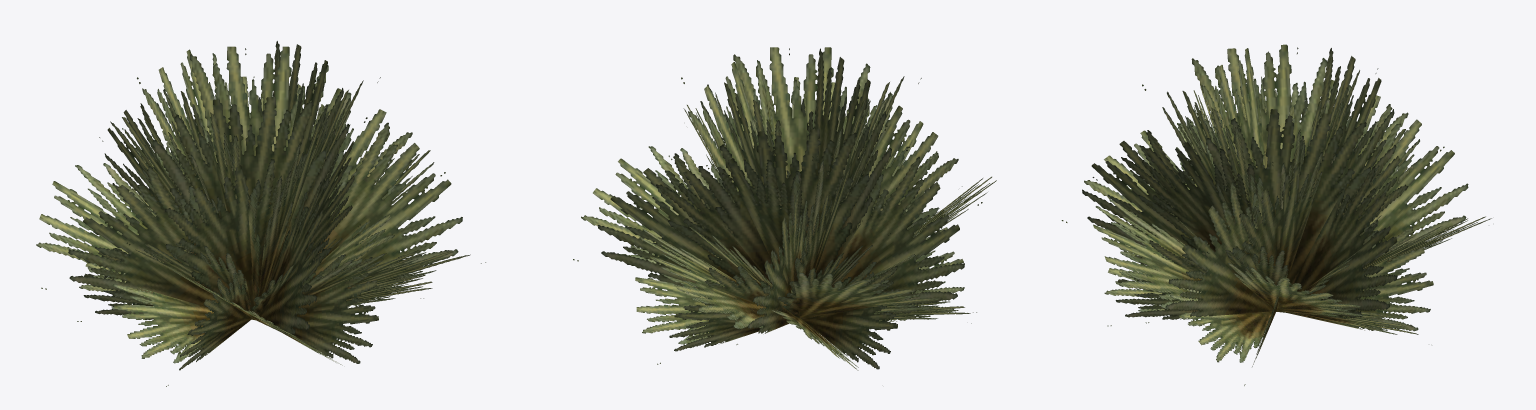
The model's file is C2SNPFBL.obj.
The picture shows the model from 3 angles, left to right: view 1: azimuth 30°, elevation 25°; view 2: azimuth 150°, elevation 25°; view 3: azimuth 270°, elevation 25°; orthographic projection. The views are drawn at different scales.
Parts seen in each view (by area): view 1: Node 0; view 2: Node 0; view 3: Node 0.
Boxes of the visible parts, x1,y1,x2,y2 form: Node 0: (36,41,485,386); Node 0: (573,47,996,370); Node 0: (1061,44,1491,385).
Bounding box in the file's own units: 3.55 × 2.12 × 3.78.
1 material, 1 textured.
